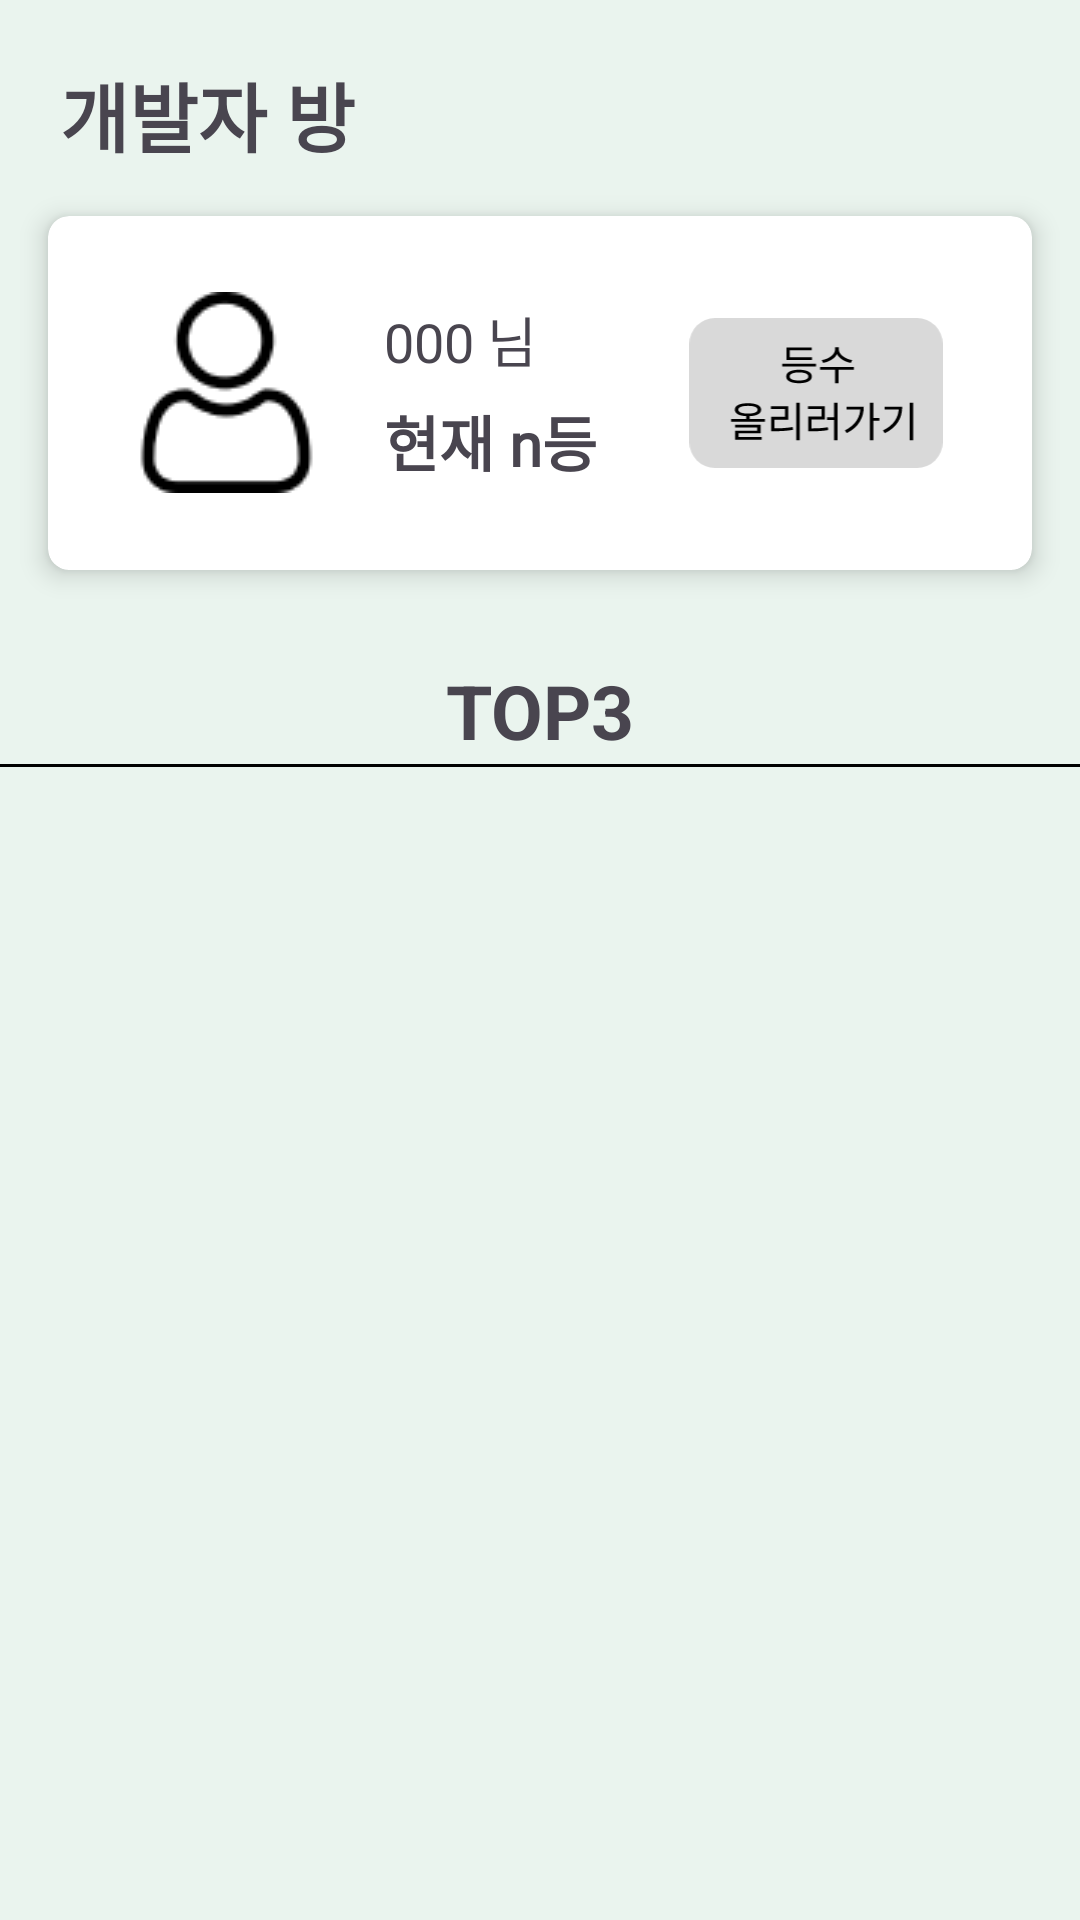

Icons on this 1080px x 1920px Android screen, each with the point to tap as point (x, y):
user: point (226, 392)
